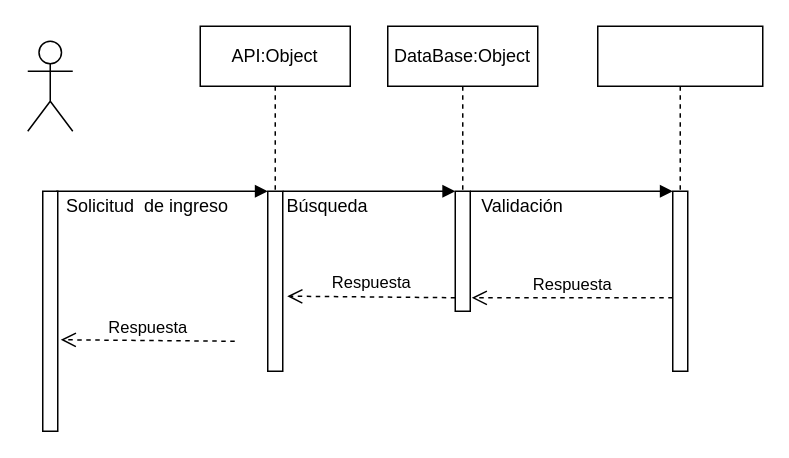
Image size: 789x458. Some labels were removed from this diagram. Here are the shapes that lost their labels. From the top down, the box of each, then its label:
(26, 40, 73, 131): USER
(596, 25, 763, 191): System:Object
